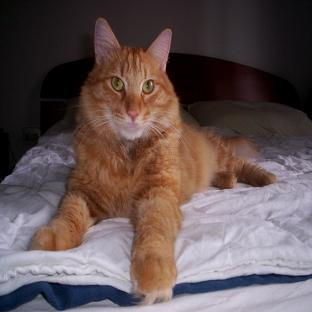Animal: (29, 19, 276, 304)
